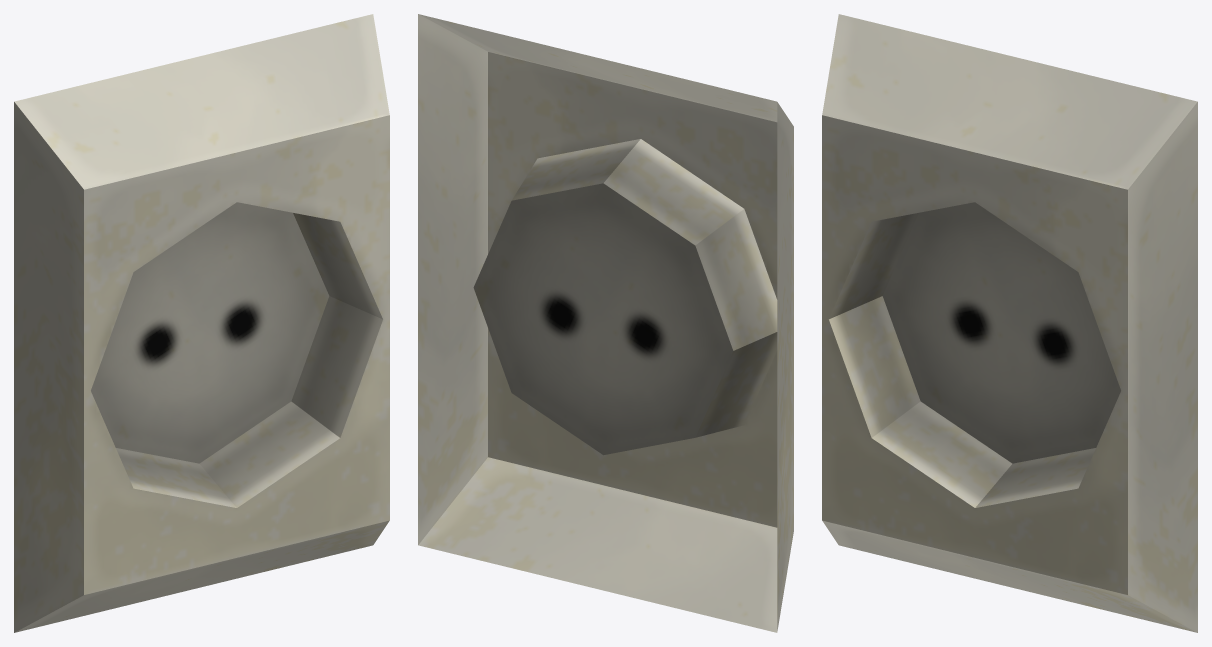
The model's file is outlet.glb.
3 renders of one model, left to right at view 1: azimuth 30°, elevation 25°; view 2: azimuth 150°, elevation 25°; view 3: azimuth 330°, elevation 25°, orthographic.
Visible parts, largest first — view 1: Outlet; view 2: Outlet; view 3: Outlet.
Part boxes in pixels (x1,y1,x2,y2): Outlet: [14, 14, 389, 632]; Outlet: [418, 14, 793, 632]; Outlet: [822, 14, 1197, 632].
Size of the model in its own units: 0.2602 by 0.368 by 0.0543.
1 material, 1 textured.
